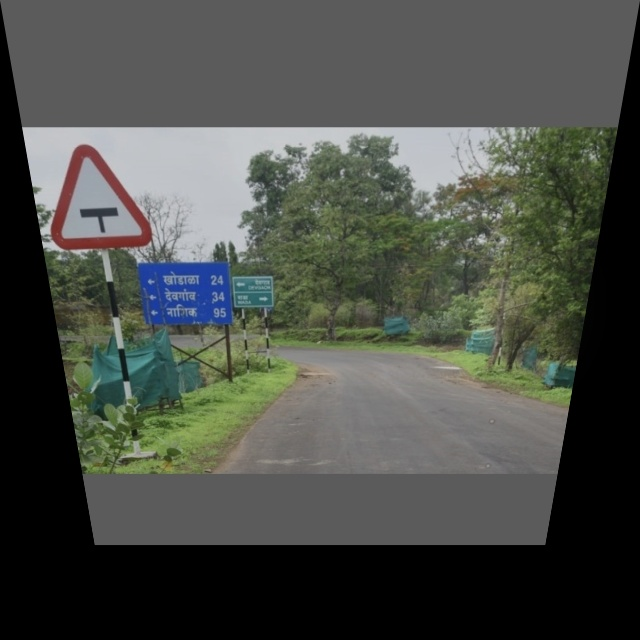T_Intersection: (39, 141, 156, 248)
